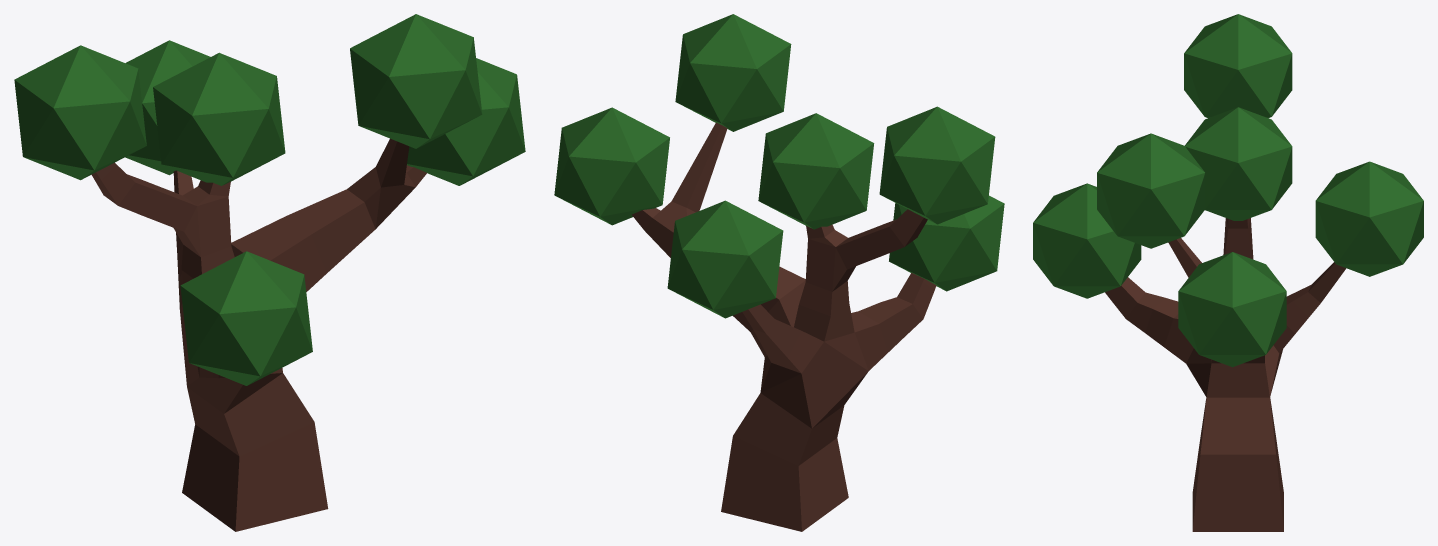
The model's file is Summer_Tree.fbx.
3 views of the same model, side by side, from view 1: azimuth 30°, elevation 25°; view 2: azimuth 150°, elevation 25°; view 3: azimuth 270°, elevation 25° (orthographic). The views are drawn at different scales.
Parts seen in each view (by area): view 1: Vert.001, Icosphere.008, Icosphere.009, Icosphere.006, Icosphere.007, Icosphere.010, Icosphere.011; view 2: Vert.001, Icosphere.011, Icosphere.008, Icosphere.006, Icosphere.007, Icosphere.010, Icosphere.009; view 3: Vert.001, Icosphere.011, Icosphere.006, Icosphere.010, Icosphere.008, Icosphere.007, Icosphere.009.
Boxes of the visible parts, x1,y1,x2,y2 form: Vert.001: (91, 138, 426, 531); Icosphere.008: (14, 45, 146, 180); Icosphere.009: (180, 251, 312, 385); Icosphere.006: (350, 14, 482, 148); Icosphere.007: (153, 52, 285, 185); Icosphere.010: (407, 58, 525, 185); Icosphere.011: (125, 40, 210, 175); Vert.001: (632, 122, 936, 531); Icosphere.011: (667, 200, 783, 318); Icosphere.008: (879, 106, 995, 224); Icosphere.006: (675, 14, 791, 131); Icosphere.007: (758, 113, 874, 229); Icosphere.010: (554, 107, 669, 225); Icosphere.009: (889, 195, 1004, 291); Vert.001: (1105, 218, 1345, 531); Icosphere.011: (1315, 161, 1423, 276); Icosphere.006: (1097, 133, 1205, 248); Icosphere.010: (1178, 252, 1286, 367); Icosphere.008: (1184, 14, 1292, 118); Icosphere.007: (1185, 107, 1292, 220); Icosphere.009: (1033, 183, 1141, 298).
Size of the model in its own units: 125 by 121 by 101.
